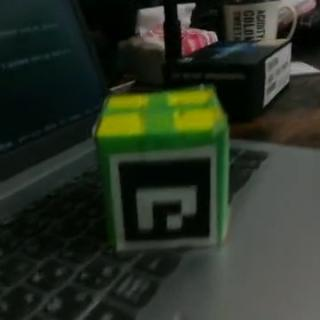armor: (108, 146, 221, 248)
robot: (96, 84, 230, 250)
